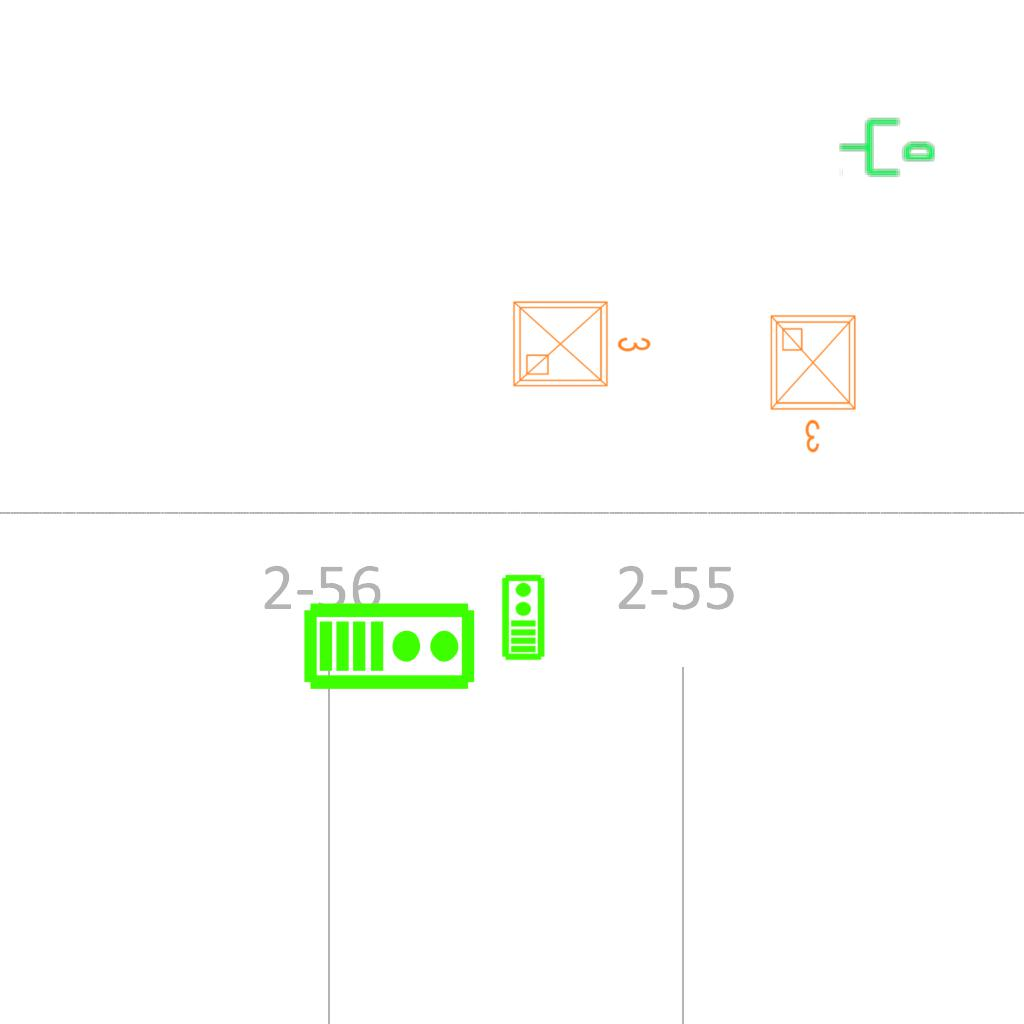Datenanschluss_einfach: (837, 111, 937, 180)
Einbaudownlights_LED_Konferenzraeume: (506, 290, 656, 394), (763, 308, 867, 458)
Gegensprechanlage_mit_Video: (302, 597, 478, 692), (499, 573, 546, 661)
